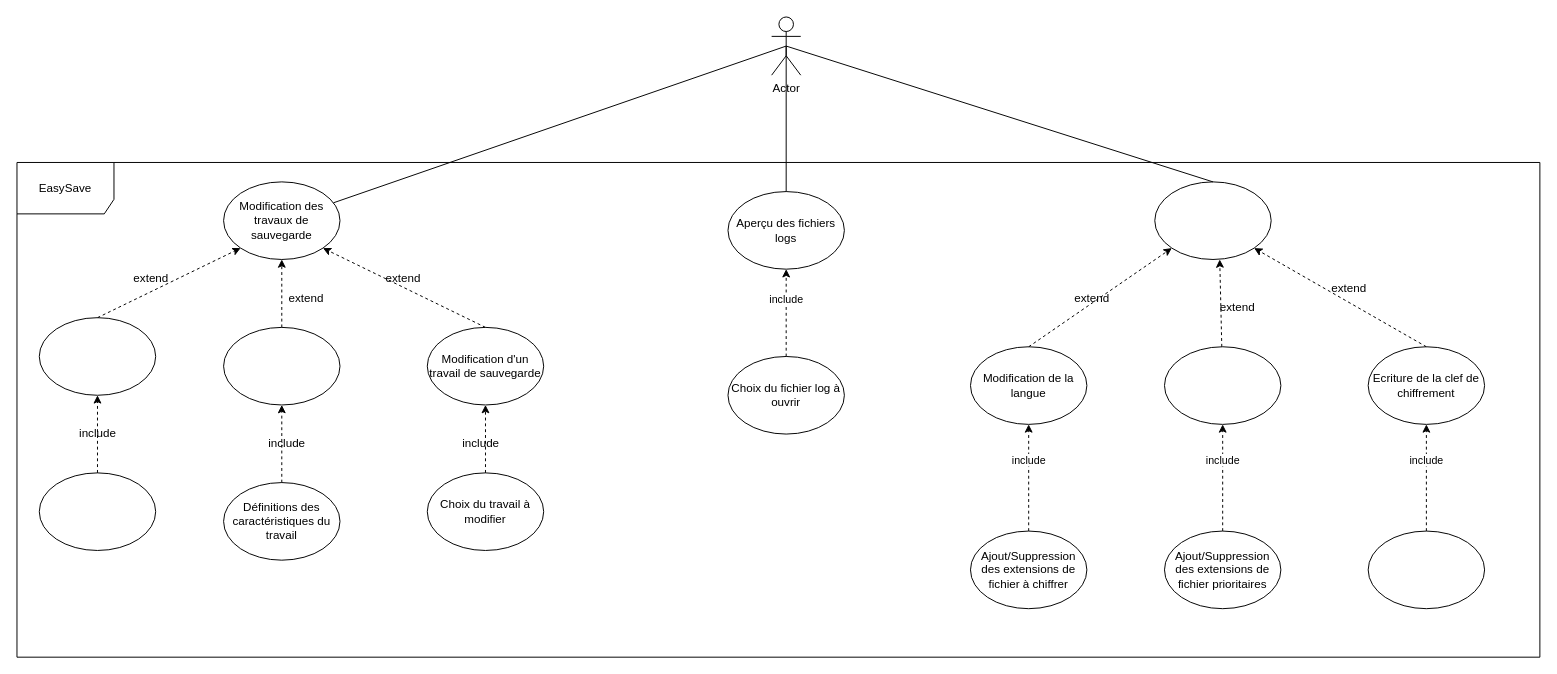
Image size: 1557x674. Some labels were removed from this diagram. Each missing label, with the box of its shape:
Ajout d'un travail de sauvegarde: (223, 326, 340, 405)
Ajout/Suppression des processus prévenant d'une sauvegarde: (1367, 530, 1485, 609)
Choix du travail à lancer: (38, 317, 156, 395)
execution de la copie: (38, 472, 156, 550)
Modification des paramètres: (1154, 181, 1271, 259)
Modification du format: (1164, 346, 1281, 424)
